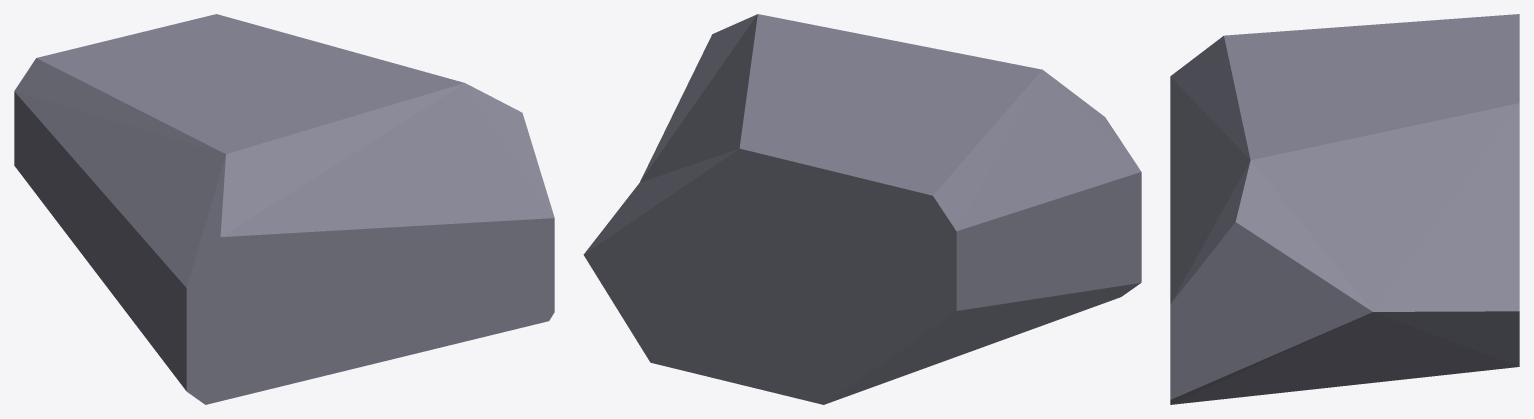
Rendered from rock_a.glb.
The picture shows the model from 3 angles, left to right: view 1: azimuth 30°, elevation 25°; view 2: azimuth 150°, elevation 25°; view 3: azimuth 270°, elevation 25°; orthographic projection. The views are drawn at different scales.
Parts seen in each view (by area): view 1: Material_001-material.155; view 2: Material_001-material.155; view 3: Material_001-material.155.
Boxes of the visible parts, box(x1,y1,x2,y2) form: Material_001-material.155: box(14, 14, 554, 404); Material_001-material.155: box(583, 14, 1141, 404); Material_001-material.155: box(1170, 14, 1519, 404).
Bounding box in the file's own units: 0.912 × 0.5209 × 0.7404.
Materials: 1 (1 with a texture image).
